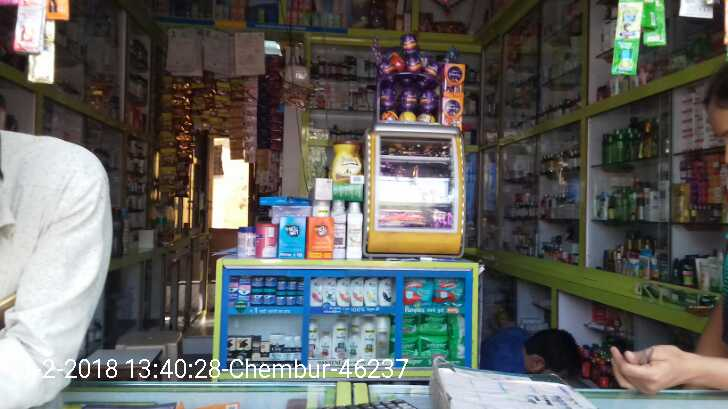vicks: (221, 277, 309, 313)
